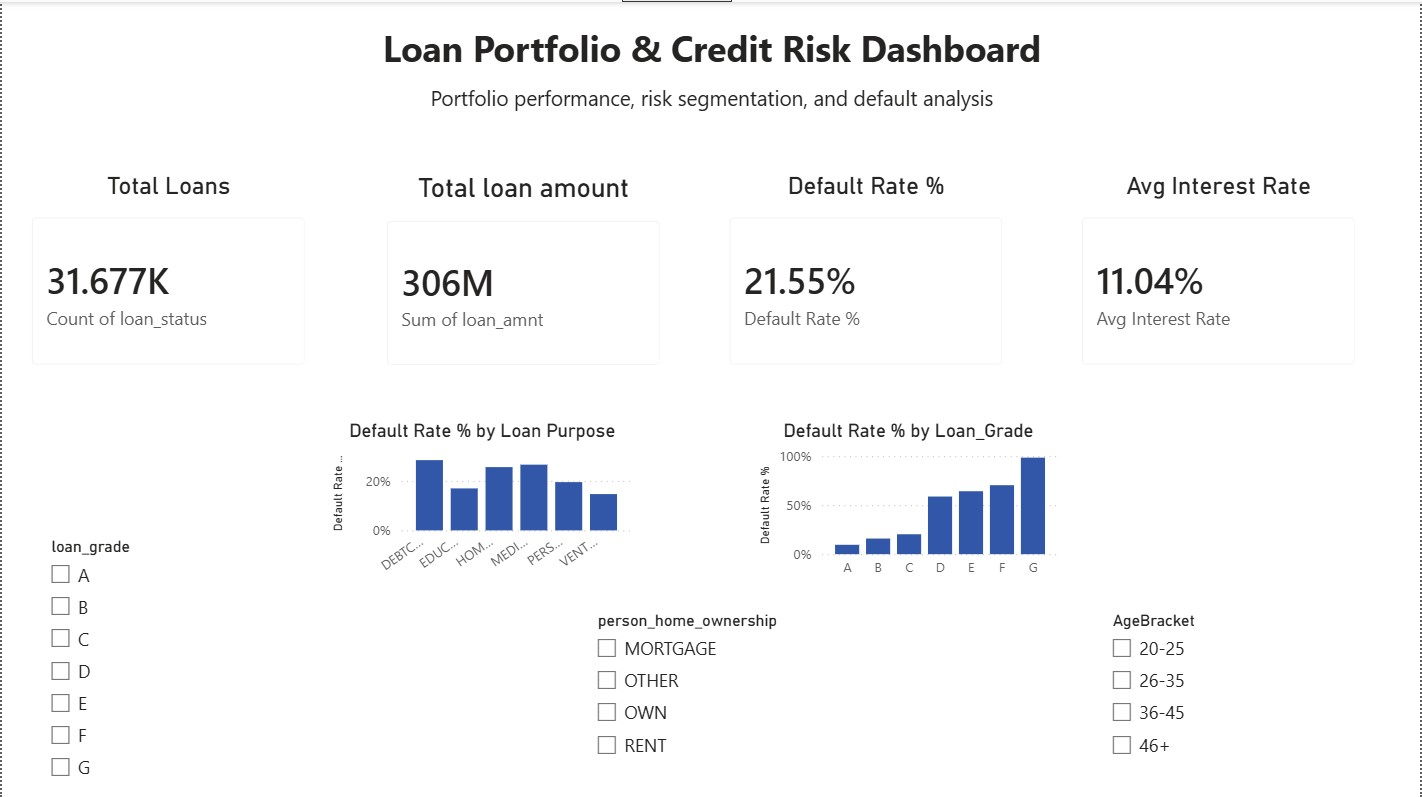

Layout of this report page (visuals, bound fields, positions):
{"tool":"powerbi","page":{"name":"Overview","canvas":[1280,720],"ordinal":0},"visuals":[{"type":"cardVisual","title":"Total Loans","fields":{"Data":["CountNonNull(Loans.loan_status)"]},"box":[9.8,152.9,280,192],"z":0},{"type":"cardVisual","title":"Total loan amount","fields":{"Data":["Sum(Loans.loan_amnt)"]},"box":[330.2,152.9,280,192],"z":1000},{"type":"cardVisual","title":"Default Rate %","fields":{"Data":["Loans.Default Rate %"]},"box":[639.5,152.9,280,192],"z":2000},{"type":"cardVisual","title":"Avg Interest Rate","fields":{"Data":["Loans.Avg Interest Rate"]},"box":[957.5,152.9,280,192],"z":3000},{"type":"clusteredColumnChart","title":"Default Rate % by Loan_Grade","fields":{"Category":["Loans.loan_grade"],"Y":["Loans.Default Rate %"]},"box":[677.4,376.6,280,151.6],"z":4000},{"type":"clusteredColumnChart","title":"Default Rate % by Loan Purpose","fields":{"Category":["Loans.loan_intent"],"Y":["Loans.Default Rate %"]},"box":[293.5,376.6,280,149.2],"z":5000},{"type":"slicer","fields":{"Values":["Loans.loan_grade"]},"box":[31.8,478.1,261.7,237.2],"z":6000},{"type":"slicer","fields":{"Values":["Loans.person_home_ownership"]},"box":[524.6,544.2,278.8,171.2],"z":7000},{"type":"slicer","fields":{"Values":["Loans.AgeBracket"]},"box":[988,544.2,278.8,146.7],"z":8000},{"type":"textbox","box":[292.9,14.3,694.2,54.2],"z":9000},{"type":"textbox","box":[292.9,68.4,694.2,37.1],"z":10000}]}

Visuals, with their boxes in screenshot pixels (x1, y1, x2, y2), scaled from the page's 1280x720 canvas onto the 1422x797 screenshot:
"Total Loans" cardVisual: box=[11, 169, 322, 382]
"Total loan amount" cardVisual: box=[367, 169, 678, 382]
"Default Rate %" cardVisual: box=[710, 169, 1022, 382]
"Avg Interest Rate" cardVisual: box=[1064, 169, 1375, 382]
"Default Rate % by Loan_Grade" clusteredColumnChart: box=[753, 417, 1064, 585]
"Default Rate % by Loan Purpose" clusteredColumnChart: box=[326, 417, 637, 582]
slicer - Loans.loan_grade: box=[35, 529, 326, 792]
slicer - Loans.person_home_ownership: box=[583, 602, 893, 792]
slicer - Loans.AgeBracket: box=[1098, 602, 1407, 765]
textbox: box=[325, 16, 1097, 76]
textbox: box=[325, 76, 1097, 117]
